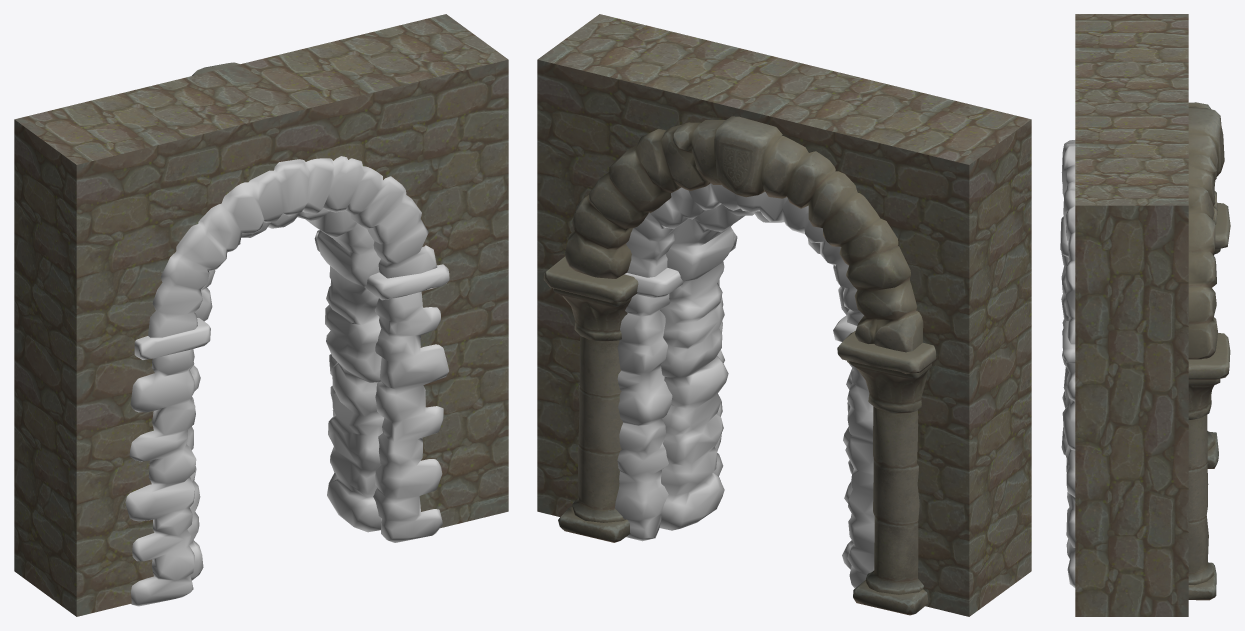
The model's file is MSH_fwOF_Ruins_Wall_Doorway_01.fbx.
3 views of the same model, side by side, from view 1: azimuth 30°, elevation 25°; view 2: azimuth 150°, elevation 25°; view 3: azimuth 270°, elevation 25° (orthographic). The views are drawn at different scales.
Visible parts, largest first — view 1: MSH_fwOF_Ruins_Wall_Door_01_Base, MSH_fwOF_Ruins_Wall_Door_01_LOD0; view 2: MSH_fwOF_Ruins_Wall_Door_01_Base, MSH_fwOF_Ruins_Wall_Door_01_LOD0; view 3: MSH_fwOF_Ruins_Wall_Door_01_Base, MSH_fwOF_Ruins_Wall_Door_01_LOD0.
Part boxes in pixels (x1,y1,x2,y2): MSH_fwOF_Ruins_Wall_Door_01_Base: (14, 14, 508, 616); MSH_fwOF_Ruins_Wall_Door_01_LOD0: (125, 62, 449, 606); MSH_fwOF_Ruins_Wall_Door_01_Base: (537, 14, 1031, 616); MSH_fwOF_Ruins_Wall_Door_01_LOD0: (543, 116, 936, 615); MSH_fwOF_Ruins_Wall_Door_01_Base: (1075, 14, 1188, 616); MSH_fwOF_Ruins_Wall_Door_01_LOD0: (1060, 102, 1230, 600).
Size of what is drawn, in the model's own units: 4 by 4.06 by 1.5.
